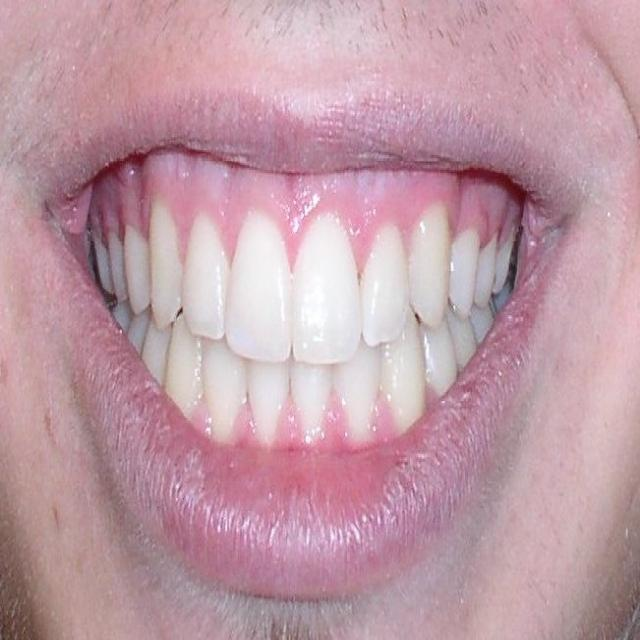tooth: (225, 210, 298, 358), (293, 215, 365, 361), (180, 214, 232, 336), (376, 325, 434, 429), (361, 225, 409, 343), (147, 199, 190, 327), (409, 217, 455, 328), (244, 356, 294, 444), (202, 340, 250, 430), (164, 330, 206, 432), (338, 359, 386, 444), (291, 350, 332, 448), (116, 217, 149, 323), (444, 222, 474, 320), (420, 318, 463, 381), (472, 234, 500, 304), (493, 237, 520, 297), (145, 320, 168, 382), (446, 315, 479, 356), (110, 232, 129, 295), (93, 235, 112, 294), (471, 302, 490, 340), (129, 308, 143, 356), (110, 304, 129, 329), (146, 302, 154, 309)
